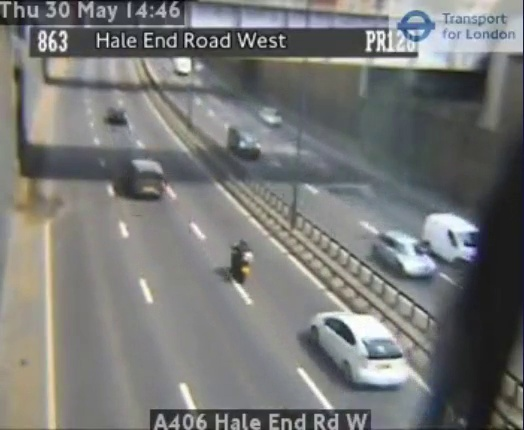car: (310, 312, 407, 386)
motorcycle: (230, 237, 253, 286)
van: (128, 158, 164, 198)
